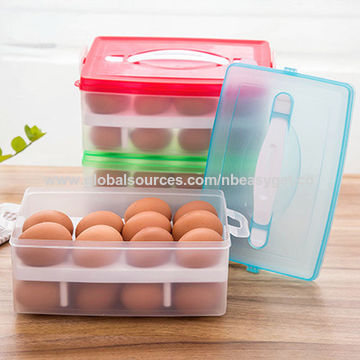egg: (16, 195, 224, 266), (85, 87, 257, 156)
